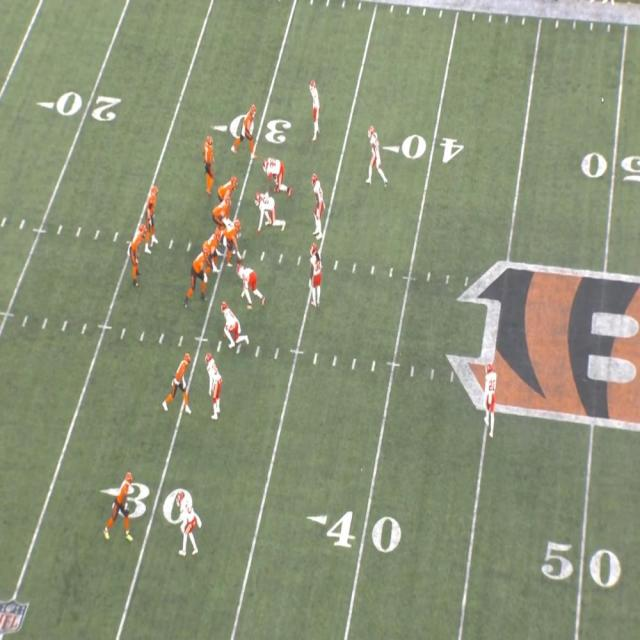center: (225, 218, 247, 259)
db: (176, 499, 200, 558), (205, 357, 223, 416), (483, 362, 496, 437), (368, 125, 385, 182), (307, 82, 320, 136)
lb: (310, 245, 322, 312), (312, 174, 324, 238)
qb: (144, 185, 159, 226)
skill: (107, 479, 136, 542), (167, 352, 192, 408), (235, 106, 258, 149), (129, 234, 144, 287), (205, 137, 214, 191)
